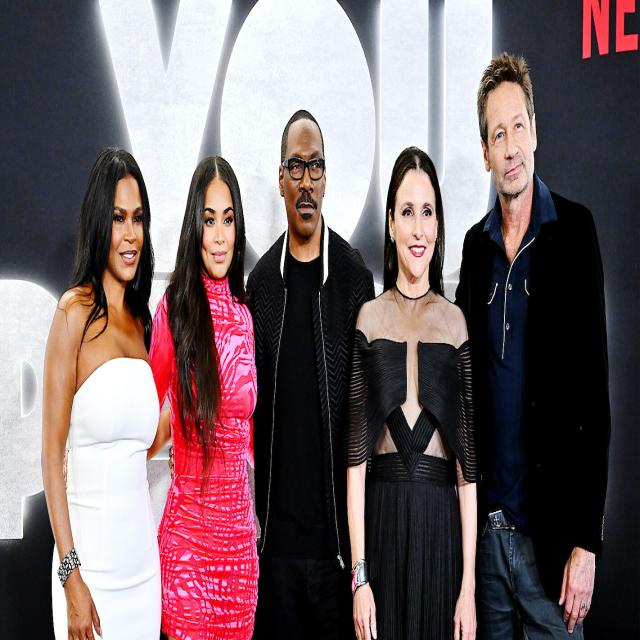adult: (458, 51, 612, 640), (250, 109, 374, 640), (350, 147, 477, 640), (40, 147, 159, 640), (151, 153, 257, 640)
